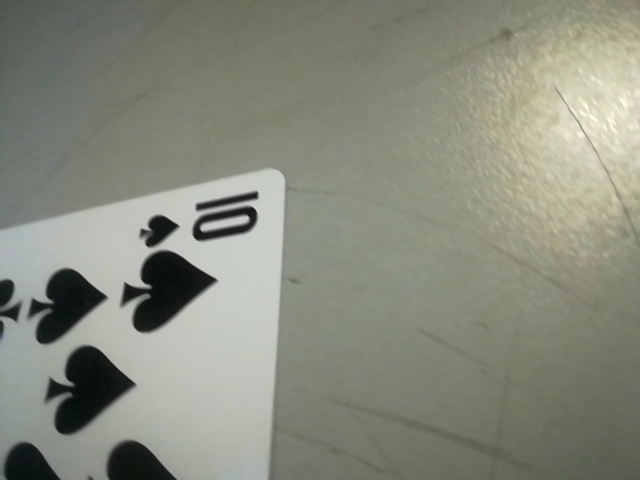ht 10: (140, 187, 279, 258)
